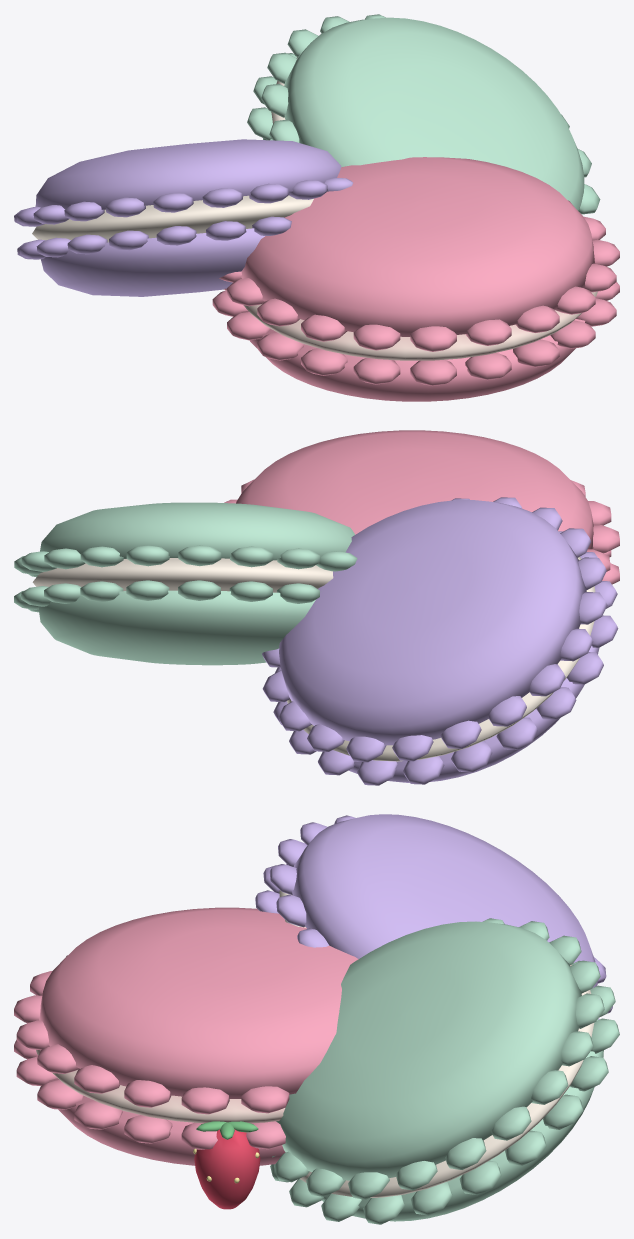
Rendered from macaron.glb.
The picture shows the model from 3 angles, top to bottom: view 1: azimuth 30°, elevation 25°; view 2: azimuth 150°, elevation 25°; view 3: azimuth 270°, elevation 25°; orthographic projection. The views are drawn at different scales.
Visible parts, largest first — view 1: cf6a5bd, cb9e4cf, ccdb8f0, cfff6ea, m_front_cream; view 2: ccdb8f0, cb9e4cf, cf6a5bd, cfff6ea; view 3: cb9e4cf, cf6a5bd, ccdb8f0, berry_body, m_front_cream, cfff6ea, c7cc68a.
Boxes of the visible parts, x1,y1,x2,y2 form: cf6a5bd: [212, 157, 619, 401]; cb9e4cf: [247, 14, 600, 214]; ccdb8f0: [14, 139, 353, 296]; cfff6ea: [32, 57, 313, 242]; m_front_cream: [243, 291, 597, 360]; ccdb8f0: [262, 497, 618, 785]; cb9e4cf: [14, 502, 357, 665]; cf6a5bd: [224, 430, 619, 584]; cfff6ea: [32, 556, 595, 761]; cb9e4cf: [270, 918, 619, 1224]; cf6a5bd: [14, 907, 358, 1165]; ccdb8f0: [255, 814, 612, 1019]; berry_body: [194, 1129, 260, 1209]; m_front_cream: [36, 1050, 285, 1123]; cfff6ea: [279, 890, 594, 1197]; c7cc68a: [196, 1121, 258, 1139].
Bounding box in the file's own units: 0.6998 × 0.2632 × 0.641.
